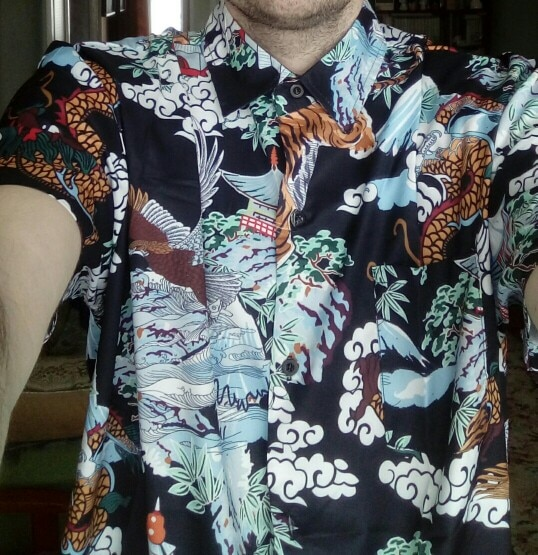shirts: (32, 21, 521, 555)
